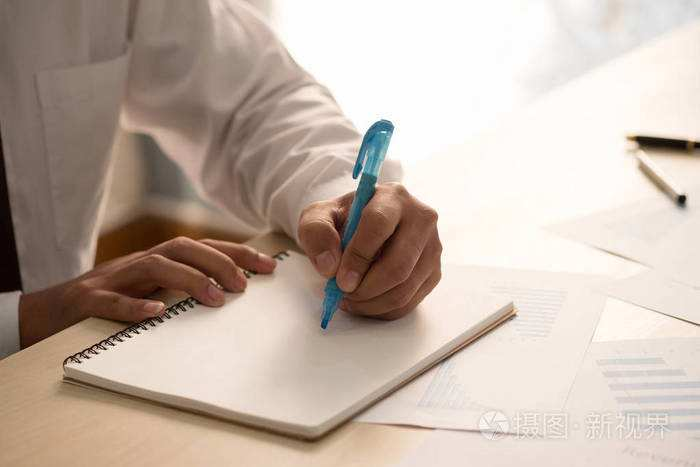no-phone: (297, 119, 447, 333)
